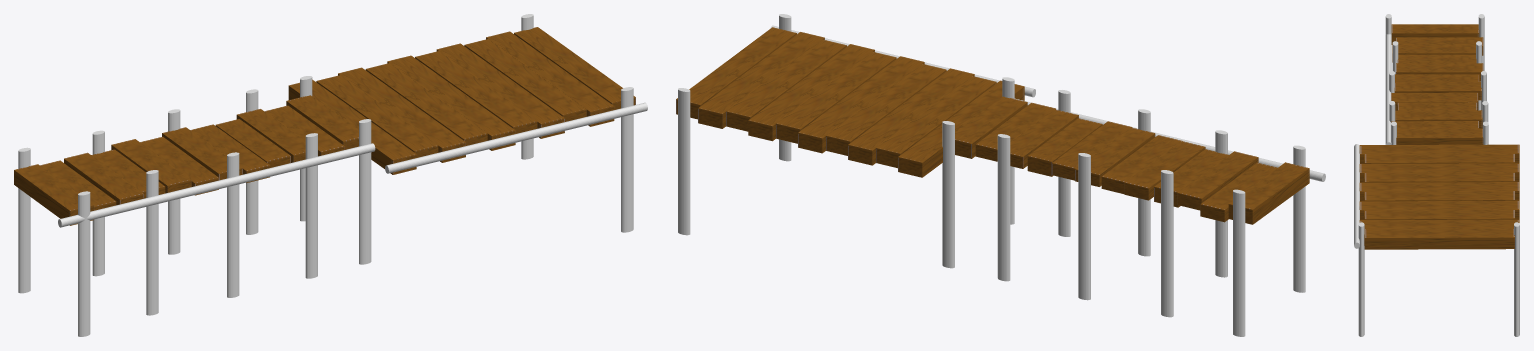
The model's file is dock.fbx.
3 views of the same model, side by side, from view 1: azimuth 30°, elevation 25°; view 2: azimuth 150°, elevation 25°; view 3: azimuth 270°, elevation 25° (orthographic). The views are drawn at different scales.
Parts seen in each view (by area): view 1: Cylinder.010, Cube.022, Cube.020, Cube.017, Cube.016, Cube.019, Cube.018, Cube.014, Cube.015, Cylinder.013, Cube.021, Cube.013 (+23 smaller); view 2: Cube.022, Cube.020, Cube.016, Cube.017, Cube.018, Cube.015, Cube.019, Cube.014, Cube.013, Cube.021, wood1, Cylinder.006 (+23 smaller); view 3: Cube.021, Cube.016, Cube.020, Cube.015, Cube.013, Cube.014, Cube.017, Cube.019, Cube.018, Cube.022, Cube.012, wood1 (+23 smaller).
Boxes of the visible parts, x1,y1,x2,y2 form: Cylinder.010: (58, 143, 375, 227); Cube.022: (486, 31, 614, 126); Cube.020: (387, 55, 515, 150); Cube.017: (436, 43, 564, 138); Cube.016: (338, 67, 465, 162); Cube.019: (415, 51, 537, 133); Cube.018: (464, 39, 586, 121); Cube.014: (316, 75, 438, 157); Cube.015: (365, 63, 487, 145); Cylinder.013: (385, 102, 647, 173); Cube.021: (514, 27, 635, 109); Cube.013: (288, 79, 416, 174); Cube.022: (698, 32, 824, 128); Cube.020: (798, 56, 924, 153); Cube.016: (848, 68, 974, 165); Cube.017: (748, 44, 874, 141); Cube.018: (726, 39, 846, 131); Cube.015: (826, 64, 946, 155); Cube.019: (776, 51, 896, 143); Cube.014: (876, 76, 996, 168); Cube.013: (898, 80, 1024, 177); Cube.021: (676, 27, 796, 119); wood1: (1228, 162, 1309, 224); Cylinder.006: (997, 134, 1010, 281); Cube.021: (1364, 228, 1514, 249); Cube.016: (1359, 163, 1519, 182); Cube.020: (1359, 182, 1519, 201); Cube.015: (1364, 172, 1514, 182); Cube.013: (1359, 144, 1519, 163); Cube.014: (1364, 153, 1514, 163); Cube.017: (1359, 200, 1519, 219); Cube.019: (1364, 191, 1514, 201); Cube.018: (1364, 209, 1514, 219); Cube.022: (1359, 219, 1519, 228); Cube.012: (1396, 128, 1483, 144); wood1: (1391, 24, 1479, 44).
Bounding box in the file's own units: 1739 × 450 × 567.
